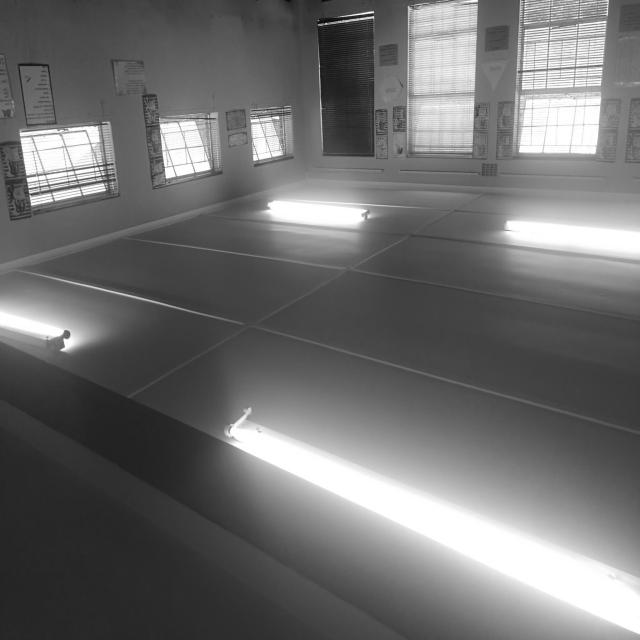light: (226, 405, 640, 637), (504, 218, 639, 258), (266, 198, 369, 227)
